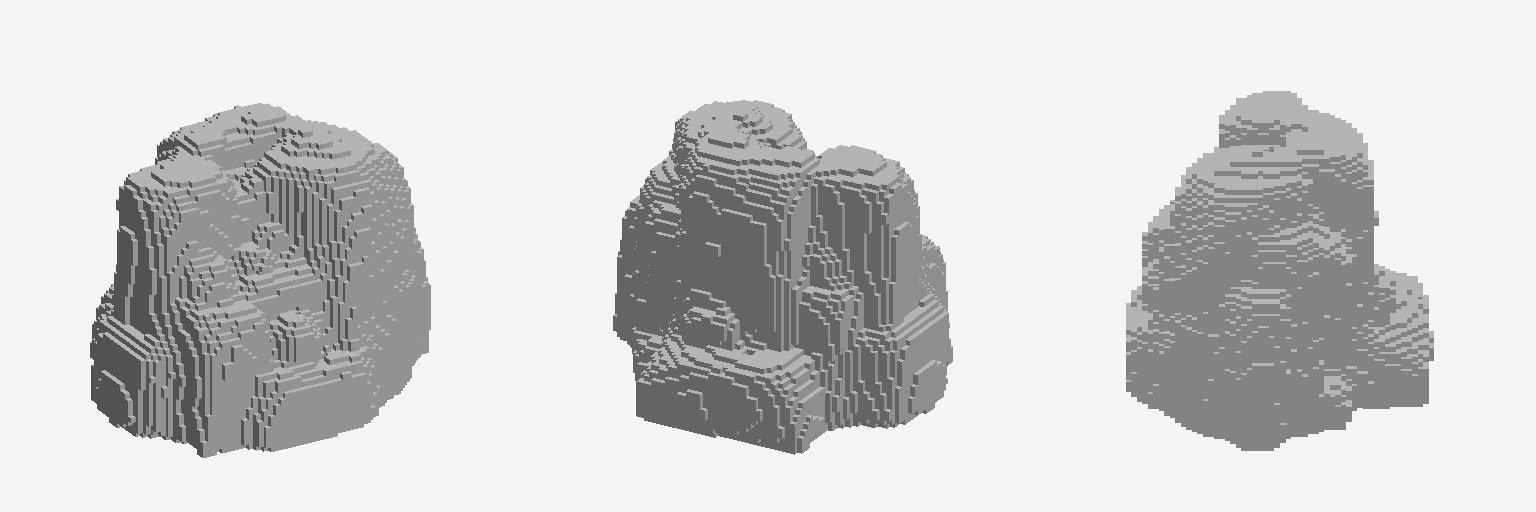
File: Hora1.obj
The picture shows the model from 3 angles: view 1: azimuth 30°, elevation 25°; view 2: azimuth 150°, elevation 25°; view 3: azimuth 270°, elevation 25°; orthographic projection.
Parts seen in each view (by area): view 1: BigRock; view 2: BigRock; view 3: BigRock.
Boxes of the visible parts, x1=… form: BigRock: x1=90, y1=103, x2=430, y2=457; BigRock: x1=613, y1=100, x2=952, y2=454; BigRock: x1=1126, y1=91, x2=1433, y2=450.
Size of the model in its own units: 6.4 by 5 by 5.6.